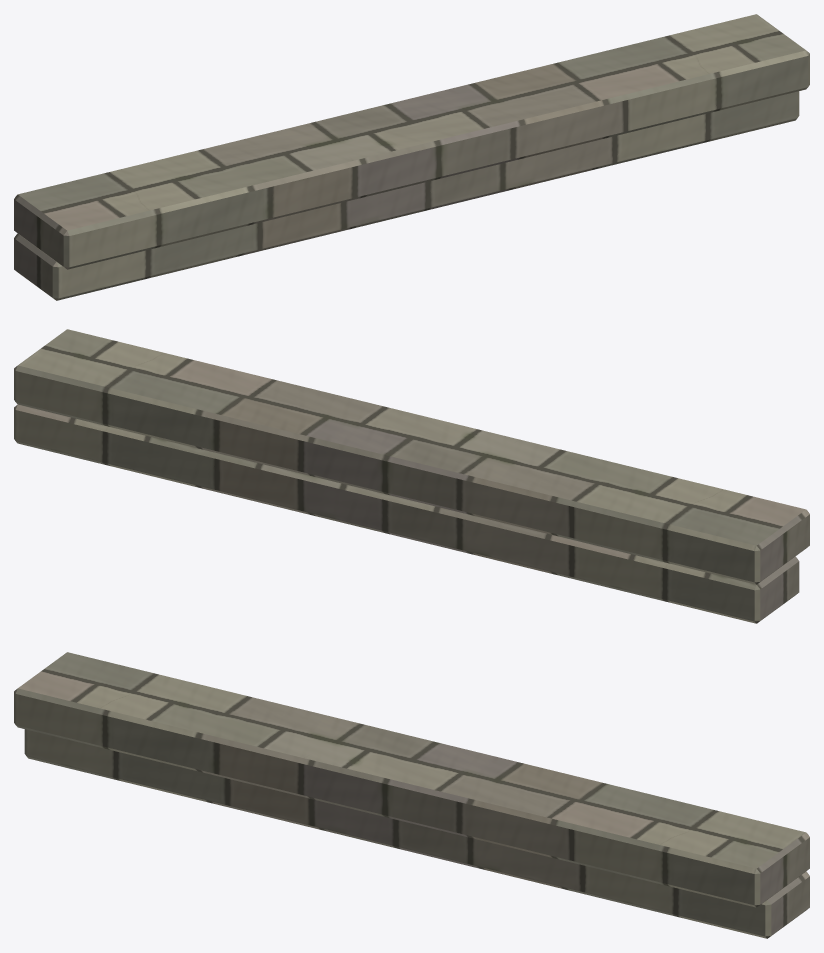
Rendered from Furn_Cornice.fbx.
3 renders of one model, top to bottom at view 1: azimuth 30°, elevation 25°; view 2: azimuth 150°, elevation 25°; view 3: azimuth 330°, elevation 25°, orthographic.
Parts seen in each view (by area): view 1: Furn_Cornice_Mesh; view 2: Furn_Cornice_Mesh; view 3: Furn_Cornice_Mesh.
Boxes of the visible parts, box(x1,y1,x2,y2) form: Furn_Cornice_Mesh: box(14, 14, 809, 300); Furn_Cornice_Mesh: box(14, 329, 809, 623); Furn_Cornice_Mesh: box(14, 652, 809, 938).
Bounding box in the file's own units: 4 × 0.4 × 0.5.
